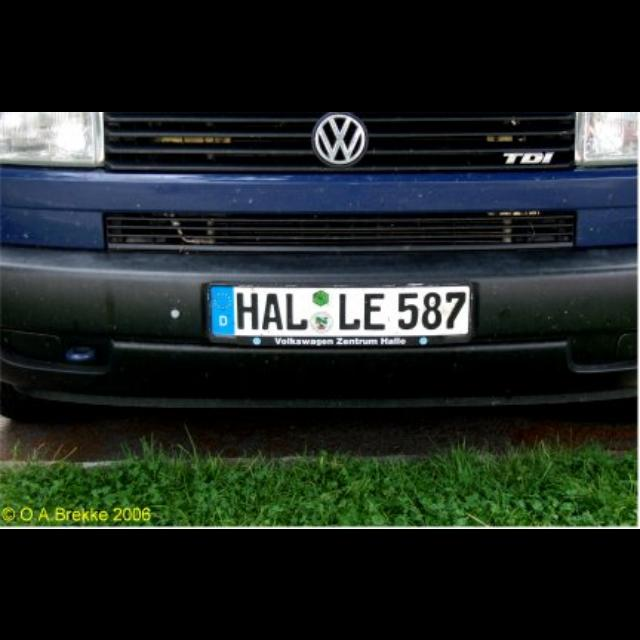d_license_plate: (206, 282, 469, 332)
